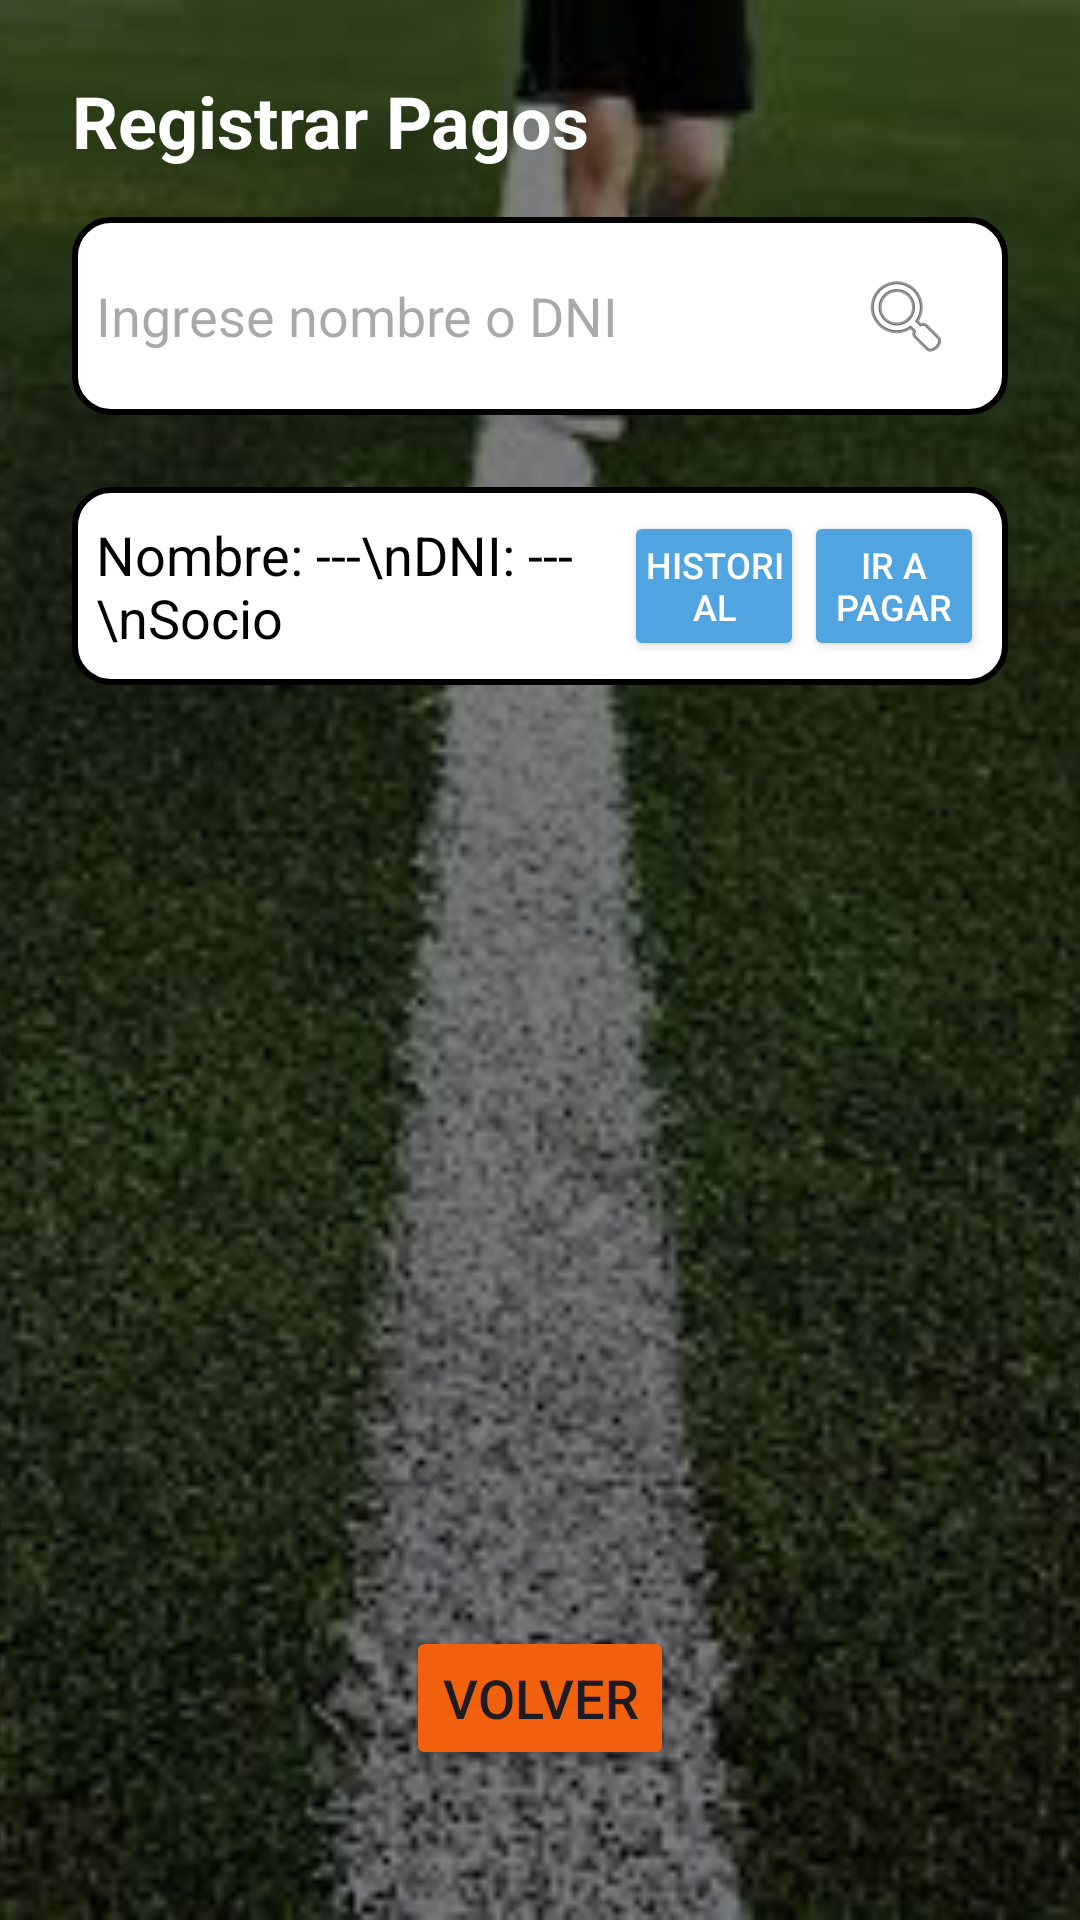

Icons on this 1080px x 1920px Android screen, each with the point to tap as [x,y]:
Buscar: [906,316]
